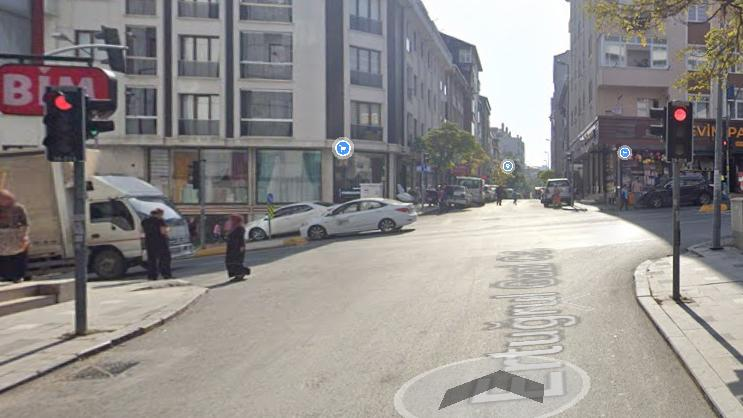redlight: (44, 86, 85, 166), (665, 98, 694, 163)
